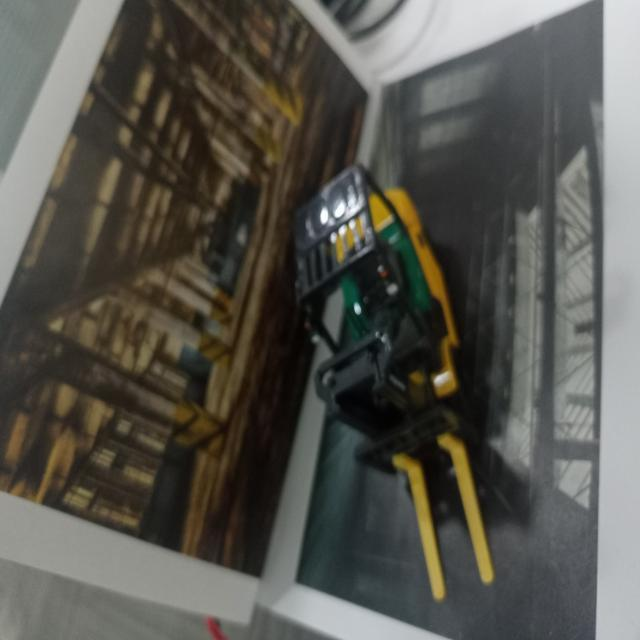forklift: (289, 167, 477, 466)
